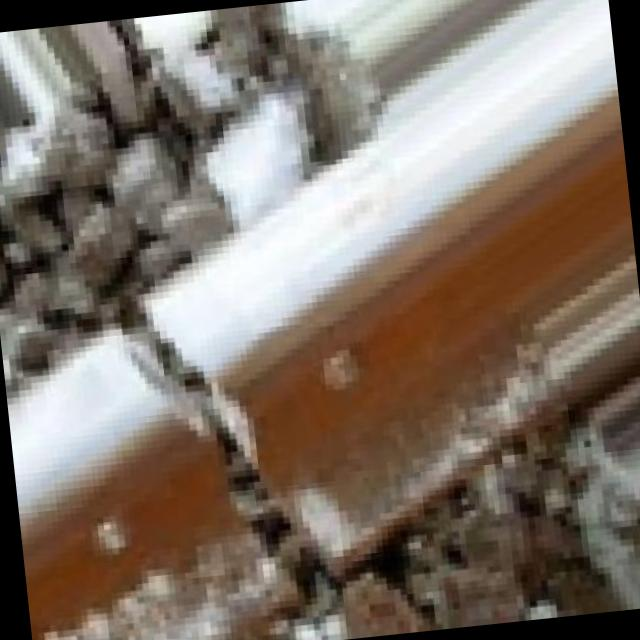defective: (1, 56, 515, 640)
